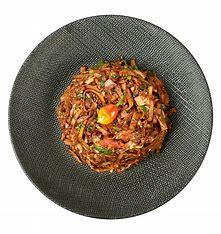Kottu: (56, 54, 181, 188)
